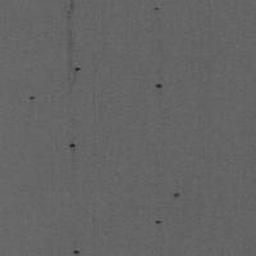Inclusion: (69, 0, 74, 12)
